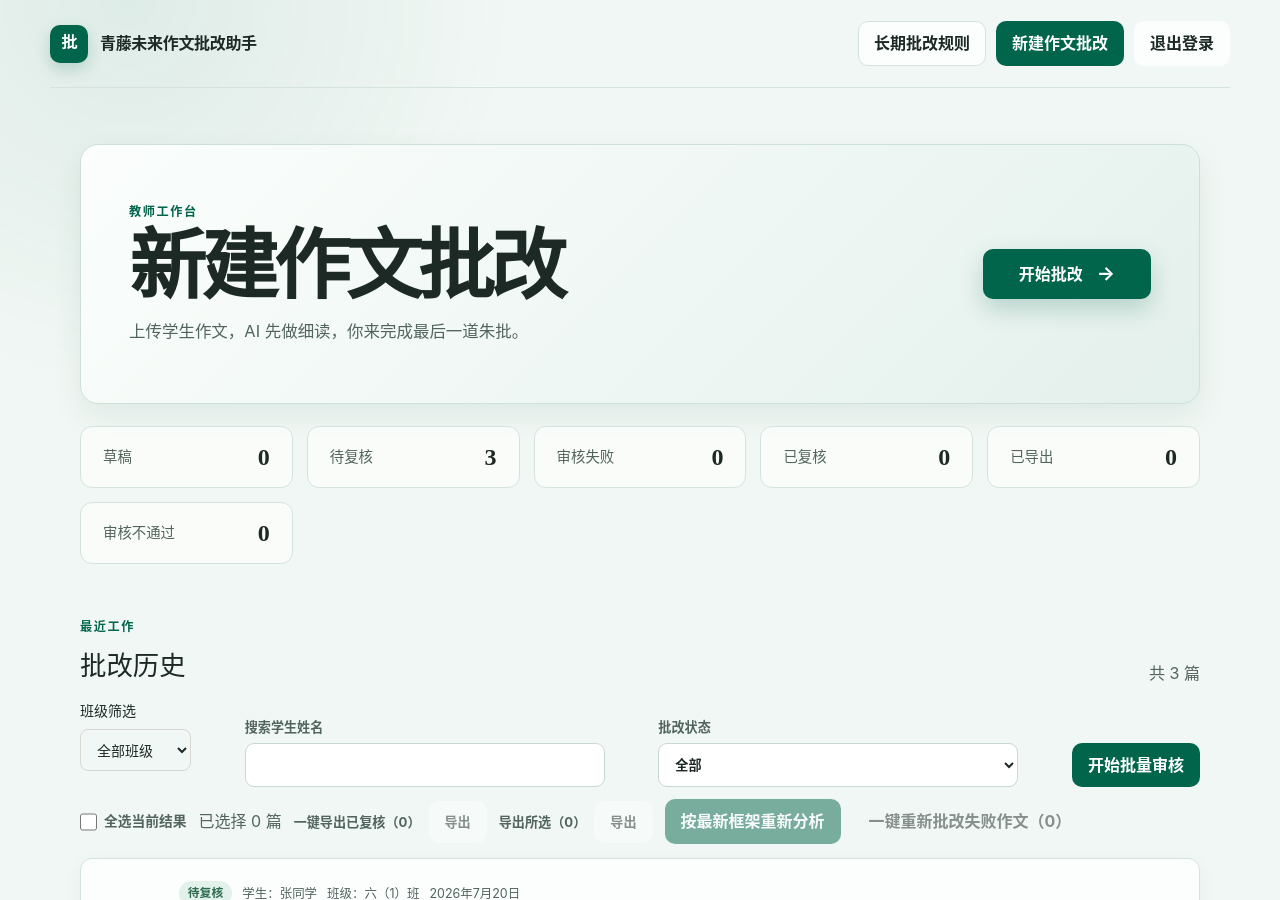
Test: combines exact class filtering with student search, including legacy records
Select "六（1）班" in the dropdown labelled "班级筛选" at (136, 750), box [80,729,191,771]
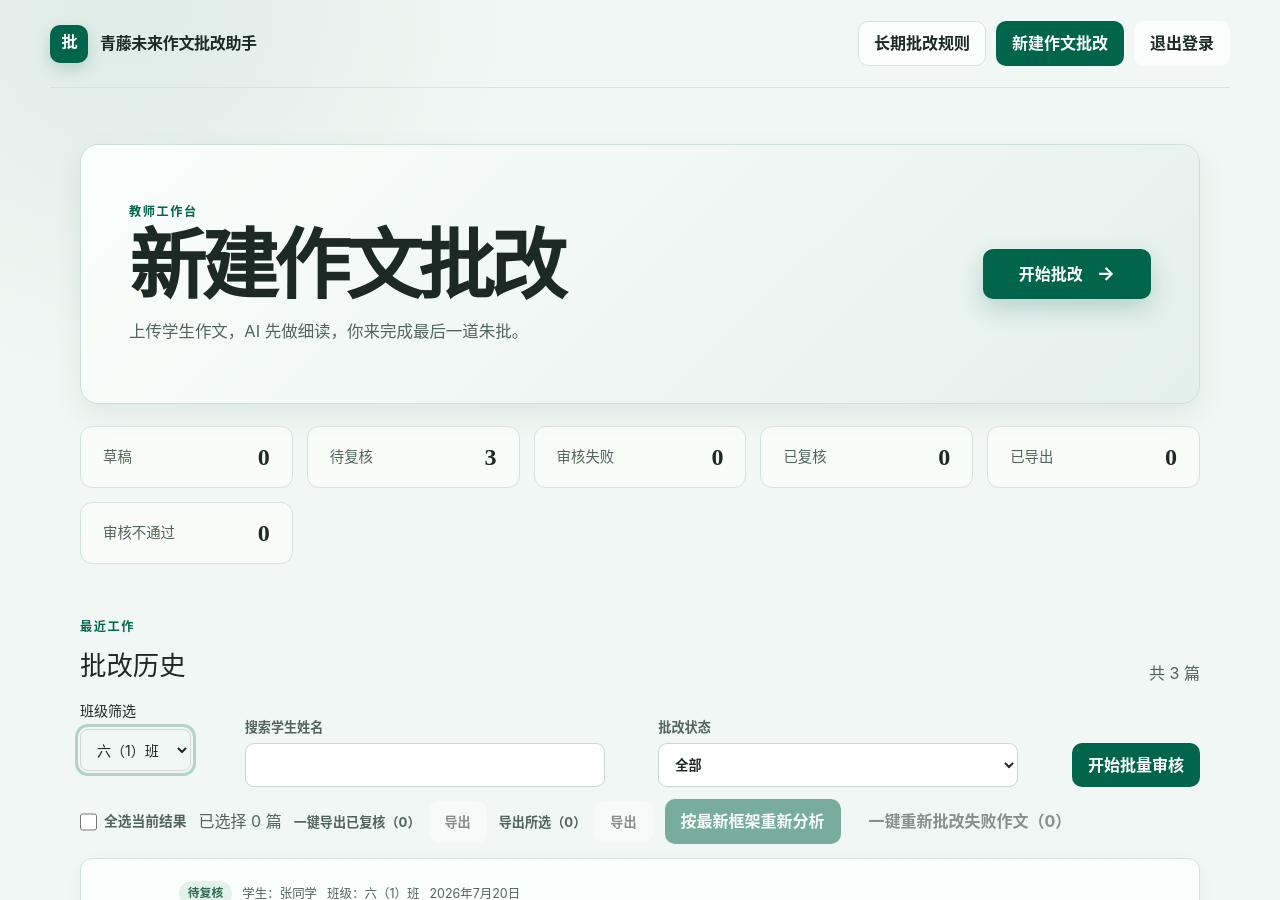
Type "李" into the search field labelled "搜索学生姓名".
click(425, 765); type("李")  # box [245,743,605,787]
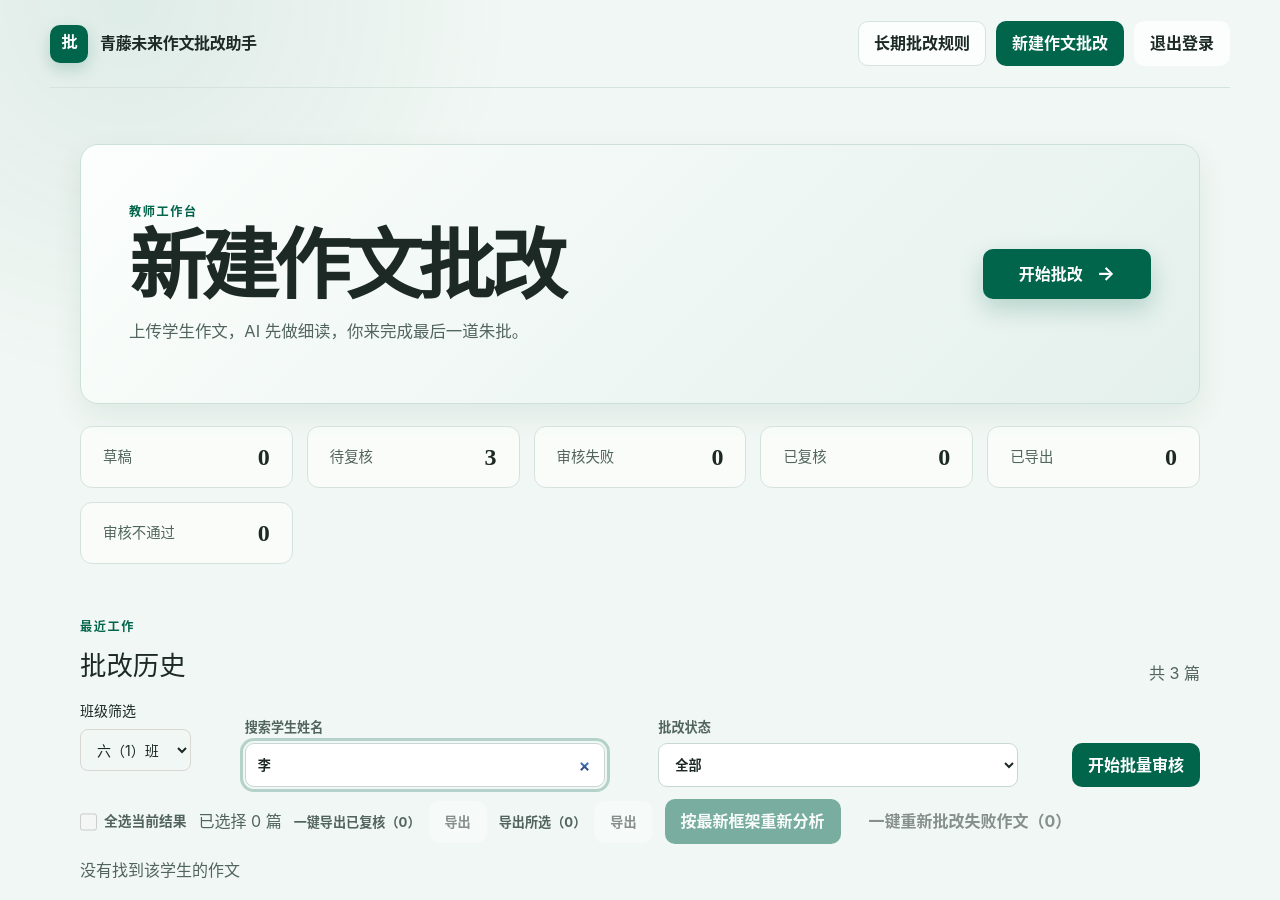
Select "未分类" in the dropdown labelled "班级筛选" at (136, 750), box [80,729,191,771]
(page scrolled)
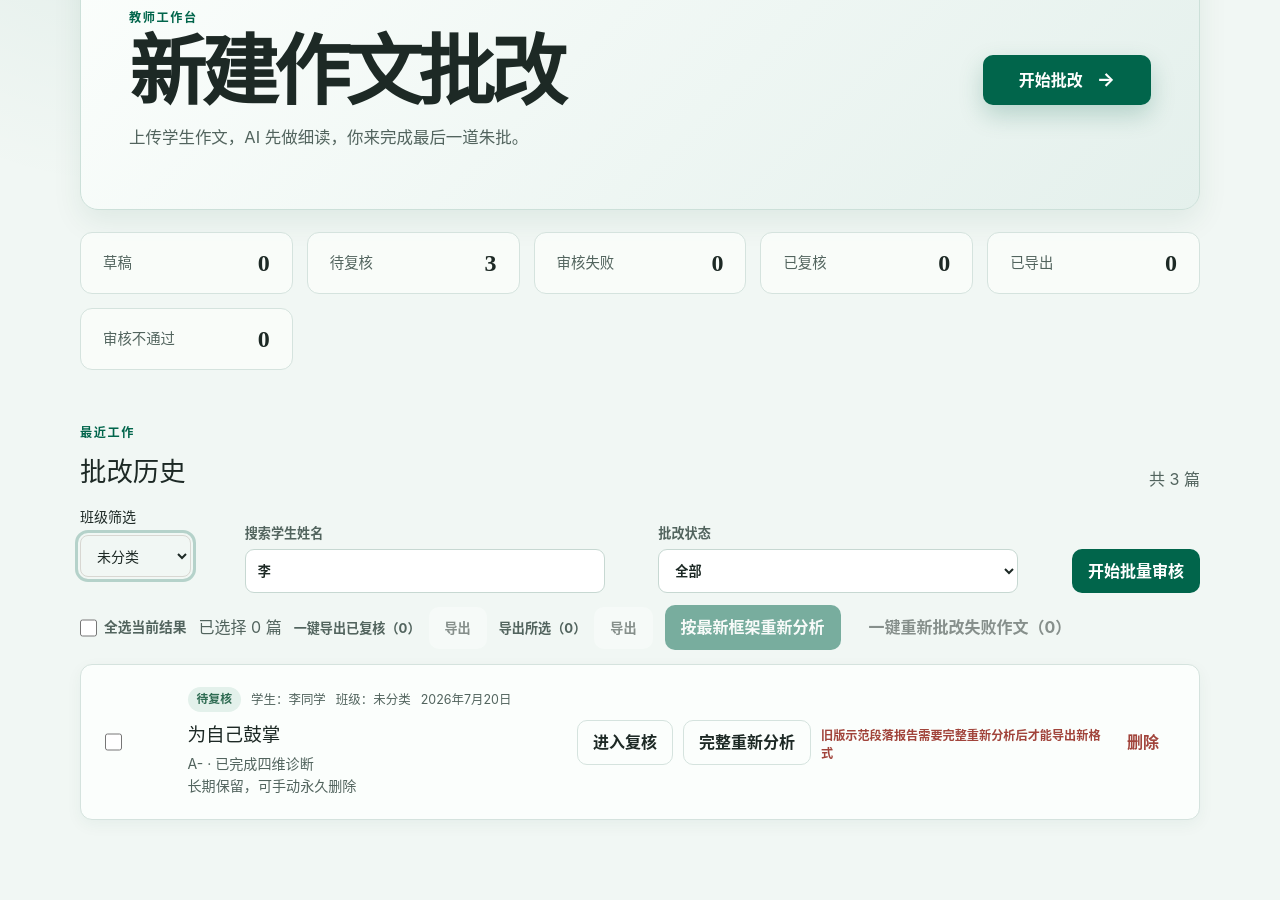
Result: the text "班级：未分类" is shown at [336,690,411,709]
